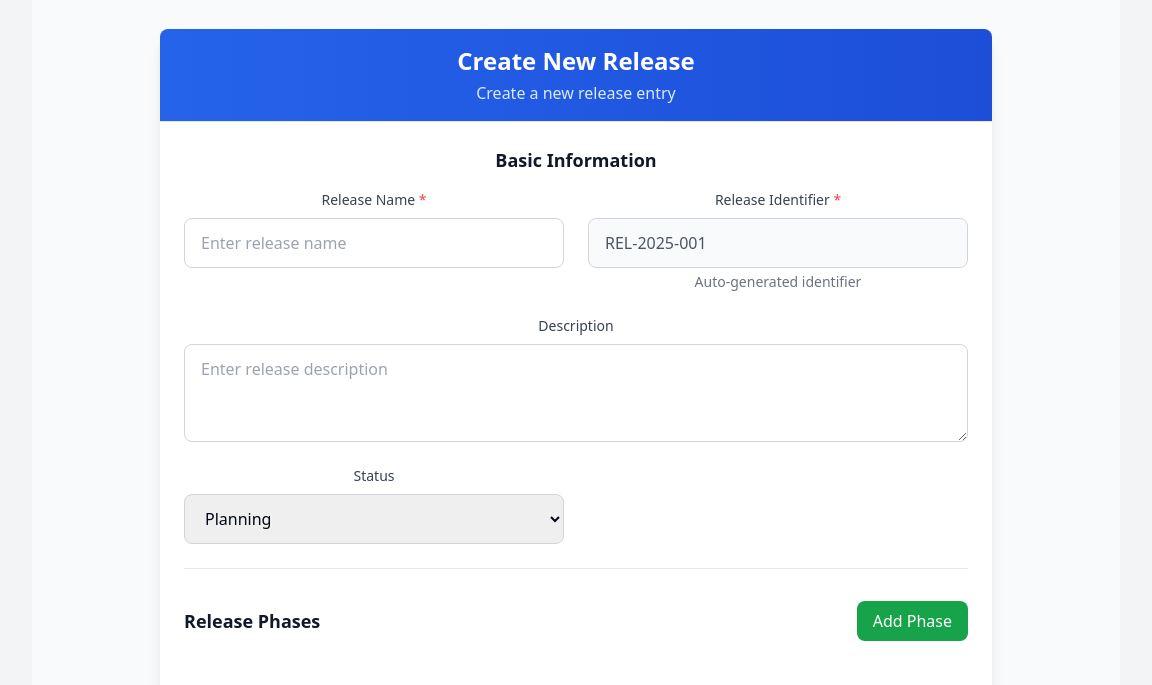
Test: ReleaseForm › Form Validation › should show error when no phases added
Type "Test Release" into the field labelled "Release Name *". click: (374, 243)
box: [184,218,564,268]
(page scrolled)
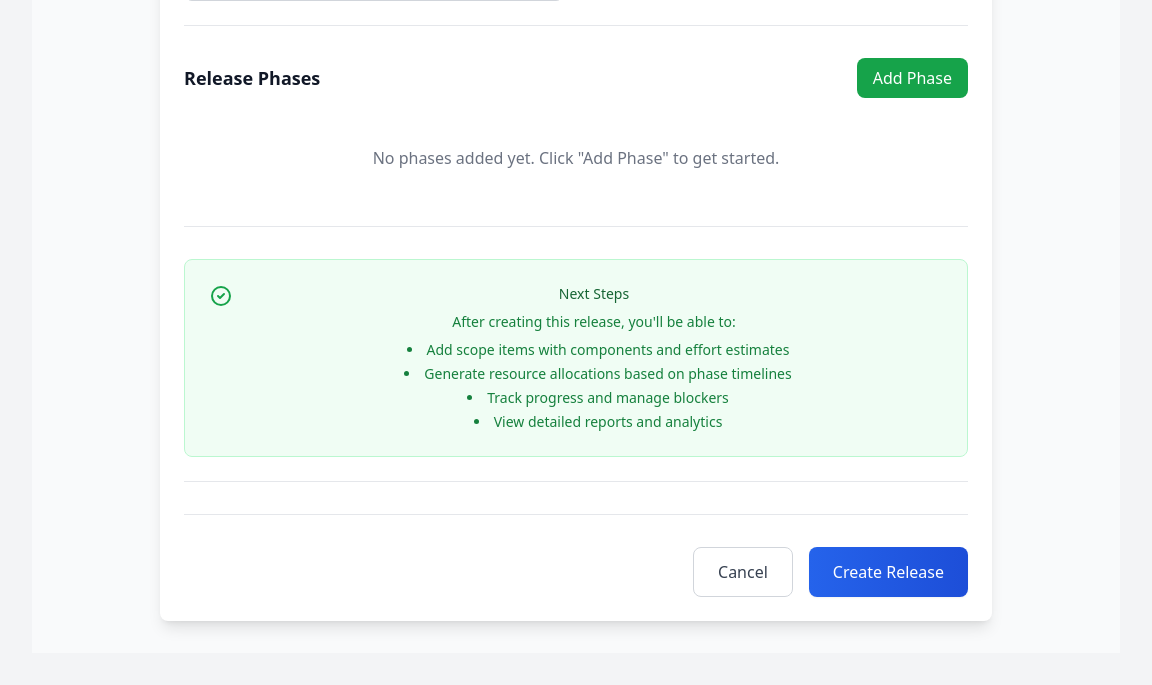
Click the button "Create Release". click: (888, 572)
box: [809,547,968,597]
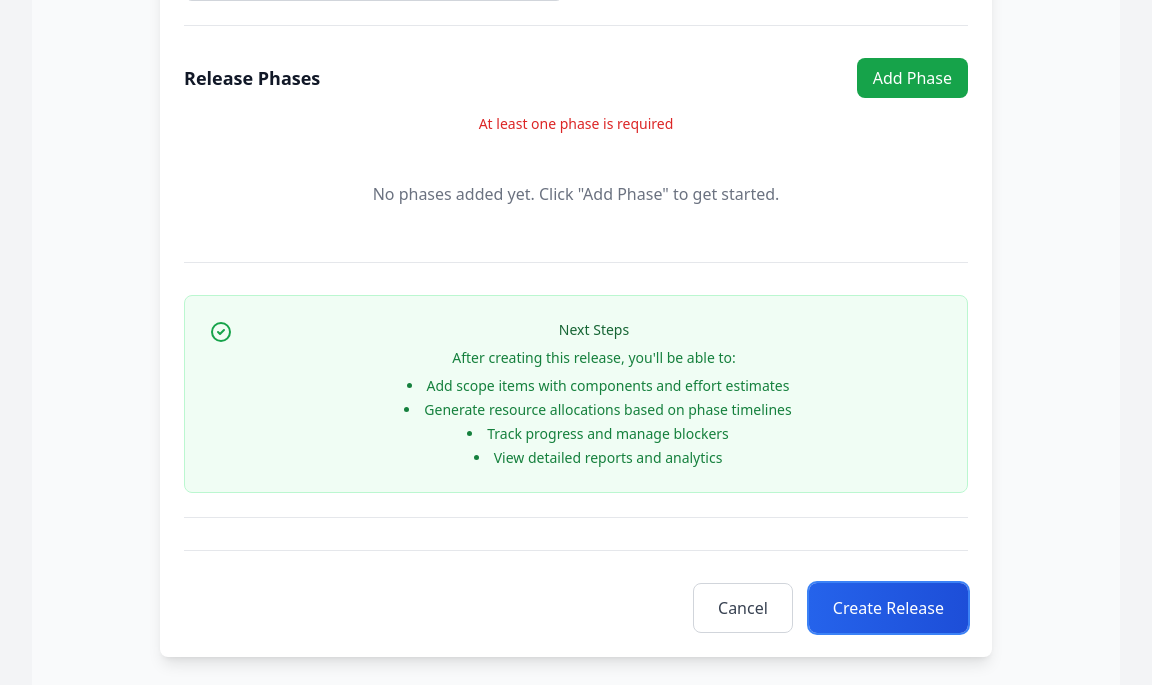
Result: the text "At least one phase is required" is shown at [479,114,673,133]
